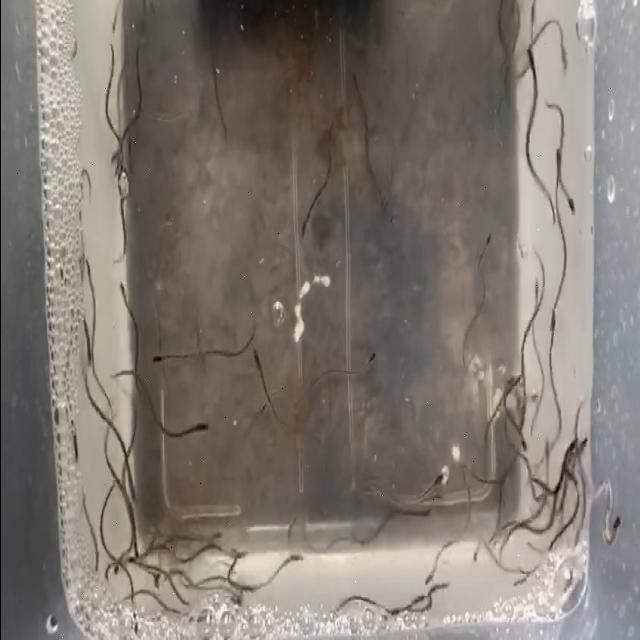inactive_glass_eel: (546, 289, 565, 343), (184, 404, 210, 442), (420, 550, 442, 594), (81, 334, 98, 384), (258, 381, 278, 422), (116, 279, 134, 323), (539, 419, 553, 474), (606, 508, 622, 556), (552, 140, 566, 192), (222, 540, 250, 566), (522, 36, 536, 86), (518, 394, 532, 443), (564, 184, 578, 230), (68, 428, 84, 468), (122, 118, 136, 163), (560, 433, 576, 471), (531, 275, 543, 325), (253, 341, 268, 381), (556, 32, 570, 74), (510, 568, 530, 596), (356, 352, 376, 380), (83, 256, 97, 296), (284, 546, 308, 569), (429, 464, 447, 494), (478, 218, 492, 256), (350, 63, 364, 101), (149, 349, 173, 371), (126, 471, 141, 506), (297, 210, 309, 252), (514, 416, 528, 450), (128, 607, 142, 640), (472, 532, 482, 574), (128, 534, 140, 566), (412, 504, 428, 522)
